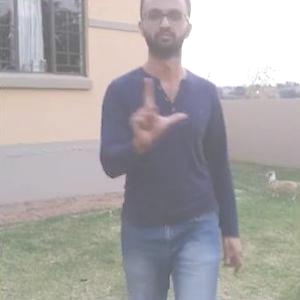land_hand: (126, 72, 189, 147)
